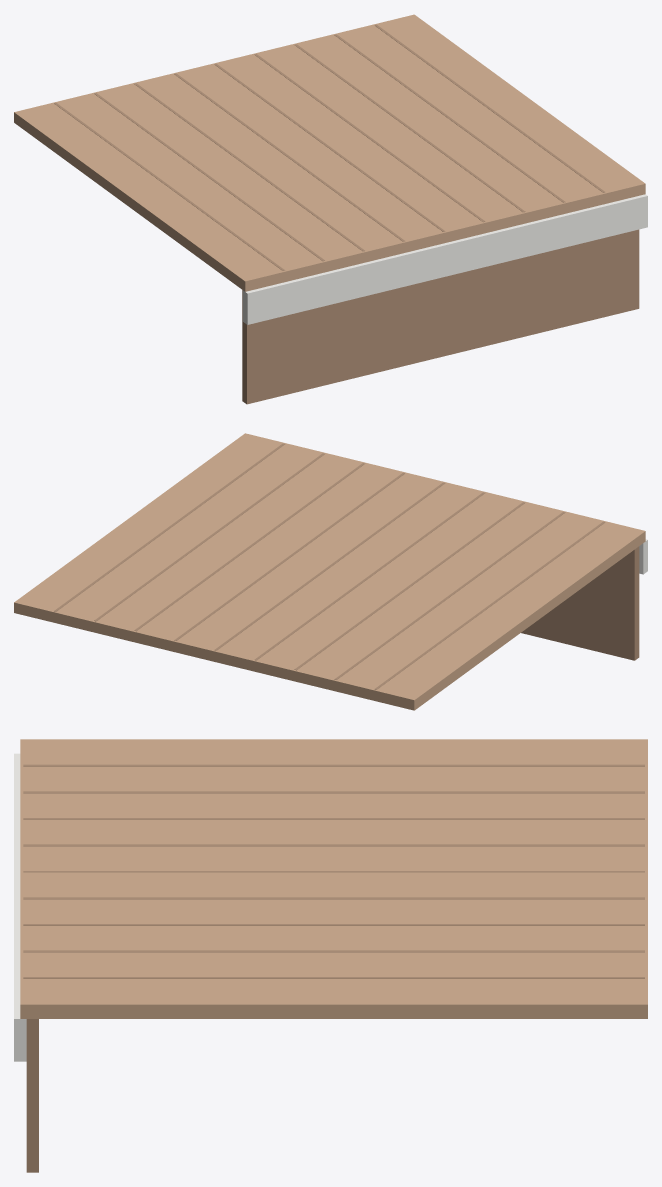
Rendered from porch_deck.glb.
3 renders of one model, top to bottom at view 1: azimuth 30°, elevation 25°; view 2: azimuth 150°, elevation 25°; view 3: azimuth 270°, elevation 25°, orthographic. The views are drawn at different scales.
Visible parts, largest first — view 1: porch_deck_deck, porch_deck_lattice, porch_deck_trim; view 2: porch_deck_deck, porch_deck_lattice; view 3: porch_deck_deck, porch_deck_lattice, porch_deck_trim.
Part boxes in pixels (left/top/right/bottom): porch_deck_deck: left=14, top=14, right=645, bottom=291; porch_deck_lattice: left=54, top=24, right=639, bottom=404; porch_deck_trim: left=243, top=194, right=647, bottom=324; porch_deck_deck: left=14, top=433, right=645, bottom=710; porch_deck_lattice: left=54, top=443, right=639, bottom=689; porch_deck_deck: left=20, top=739, right=647, bottom=1018; porch_deck_lattice: left=23, top=764, right=644, bottom=1172; porch_deck_trim: left=14, top=753, right=26, bottom=1061.
Bounding box in the file's own units: 2 × 0.601 × 2.02.
